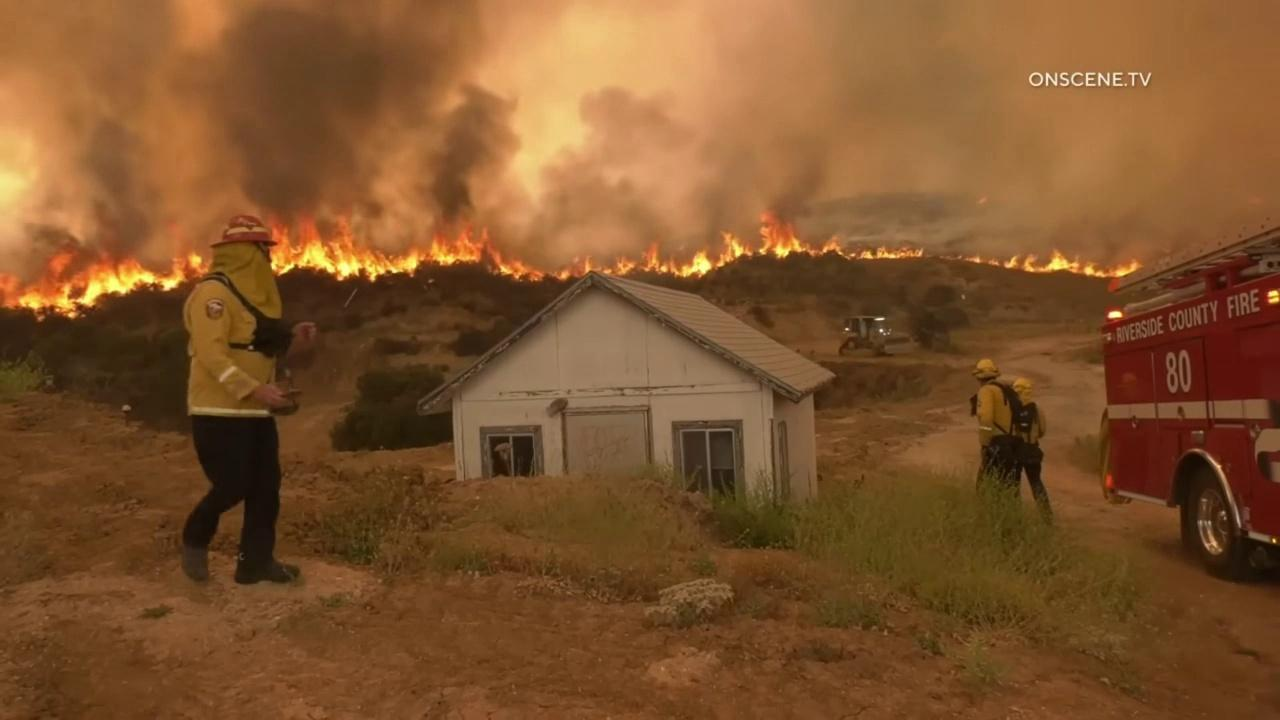fire: (268, 207, 925, 282), (0, 246, 213, 323), (964, 247, 1144, 276), (940, 255, 962, 260), (977, 196, 987, 204)
smoke: (0, 0, 1280, 270)
